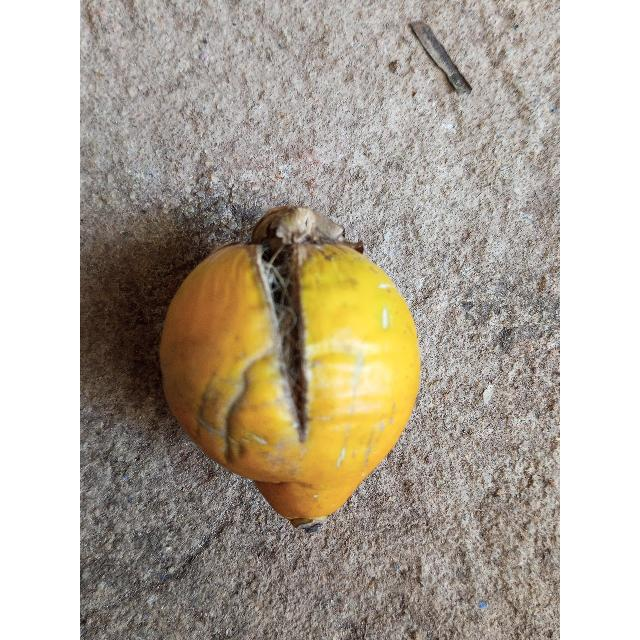damaged: (158, 207, 421, 527)
